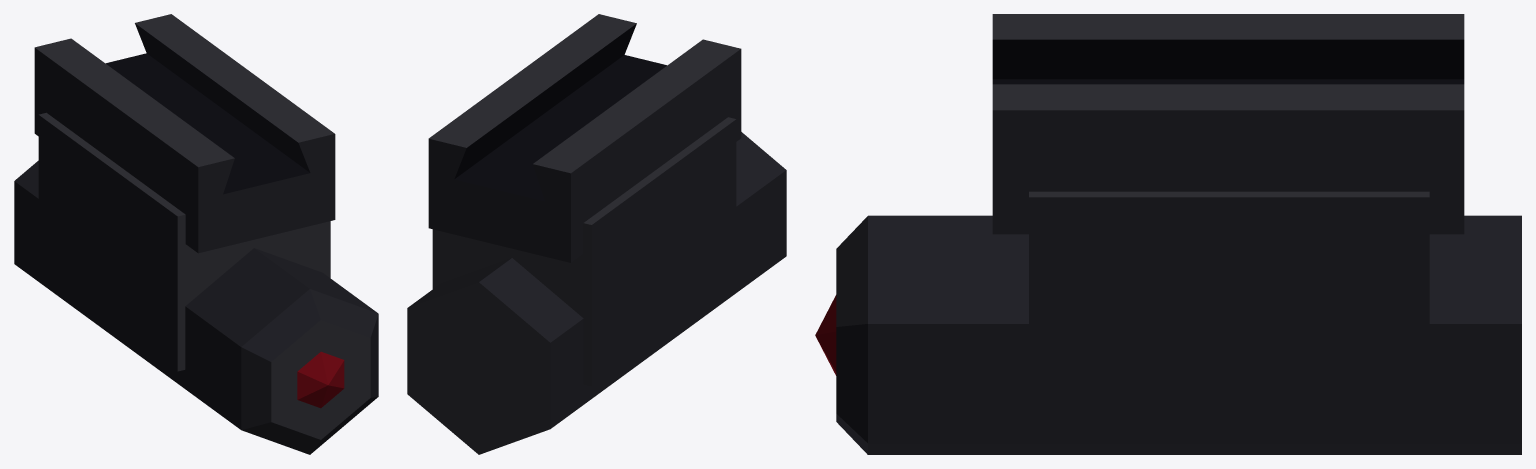
Rendered from MW1_Device_Laser_01.fbx.
3 renders of one model, left to right at view 1: azimuth 30°, elevation 25°; view 2: azimuth 150°, elevation 25°; view 3: azimuth 270°, elevation 25°, orthographic. The views are drawn at different scales.
Parts seen in each view (by area): view 1: Device_Laser_01; view 2: Device_Laser_01; view 3: Device_Laser_01.
Part boxes in pixels (<box>): Device_Laser_01: <box>14,14,378,454</box>; Device_Laser_01: <box>407,14,786,454</box>; Device_Laser_01: <box>815,14,1521,454</box>.
Bounding box in the file's own units: 2.41 × 4.11 × 6.69.
